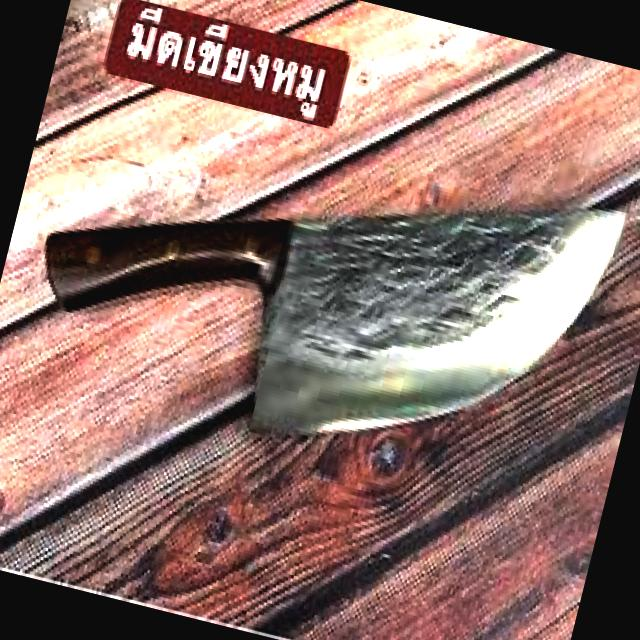cleaver: (19, 71, 640, 503)
